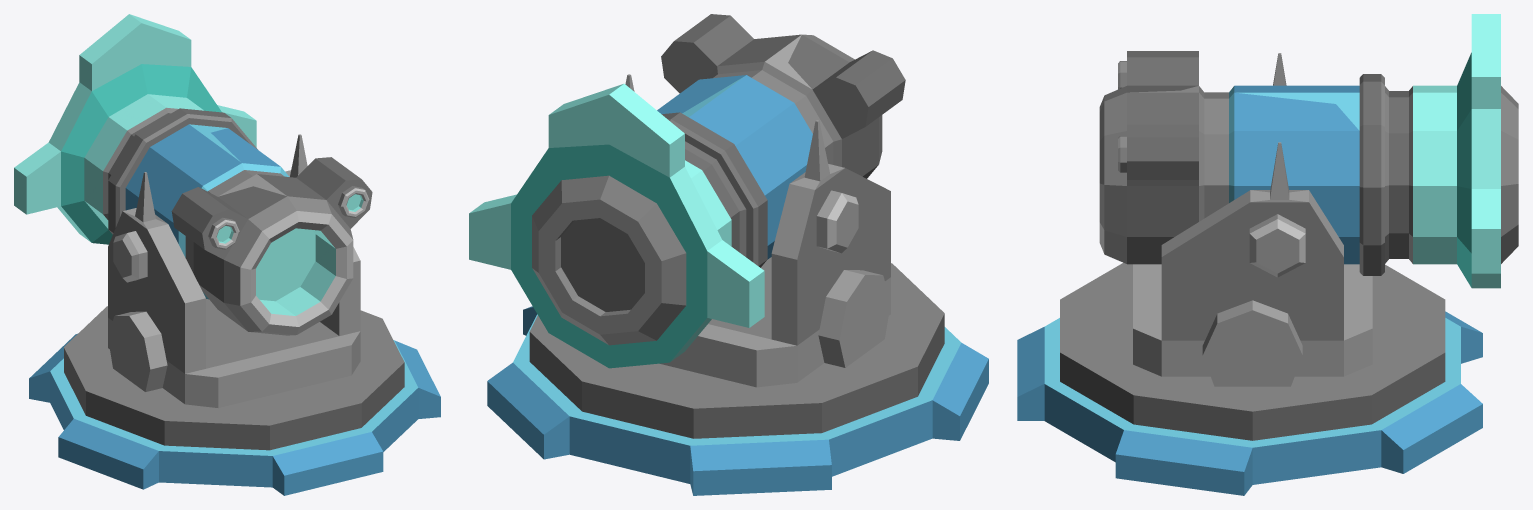
The model's file is tower_plasma_blue_3.fbx.
3 renders of one model, left to right at view 1: azimuth 30°, elevation 25°; view 2: azimuth 150°, elevation 25°; view 3: azimuth 270°, elevation 25°, orthographic. The views are drawn at different scales.
Visible parts, largest first — view 1: top_plasma_blue_3, tower_plasma_blue_3; view 2: top_plasma_blue_3, tower_plasma_blue_3; view 3: top_plasma_blue_3, tower_plasma_blue_3.
Part boxes in pixels (x1,y1,x2,y2): top_plasma_blue_3: [14, 14, 372, 407]; tower_plasma_blue_3: [29, 306, 440, 495]; top_plasma_blue_3: [469, 14, 905, 387]; tower_plasma_blue_3: [487, 263, 988, 495]; top_plasma_blue_3: [1099, 14, 1518, 386]; tower_plasma_blue_3: [1017, 263, 1482, 495].
Bounding box in the file's own units: 159 × 135 × 162.
